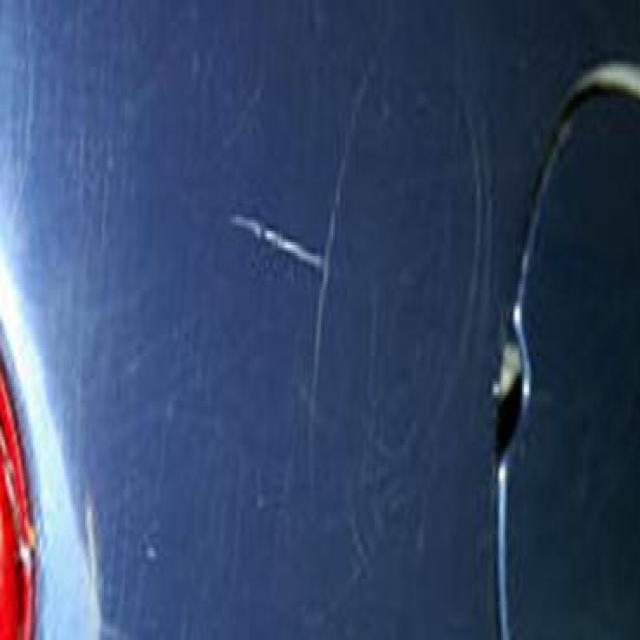scratch: (226, 194, 327, 288)
